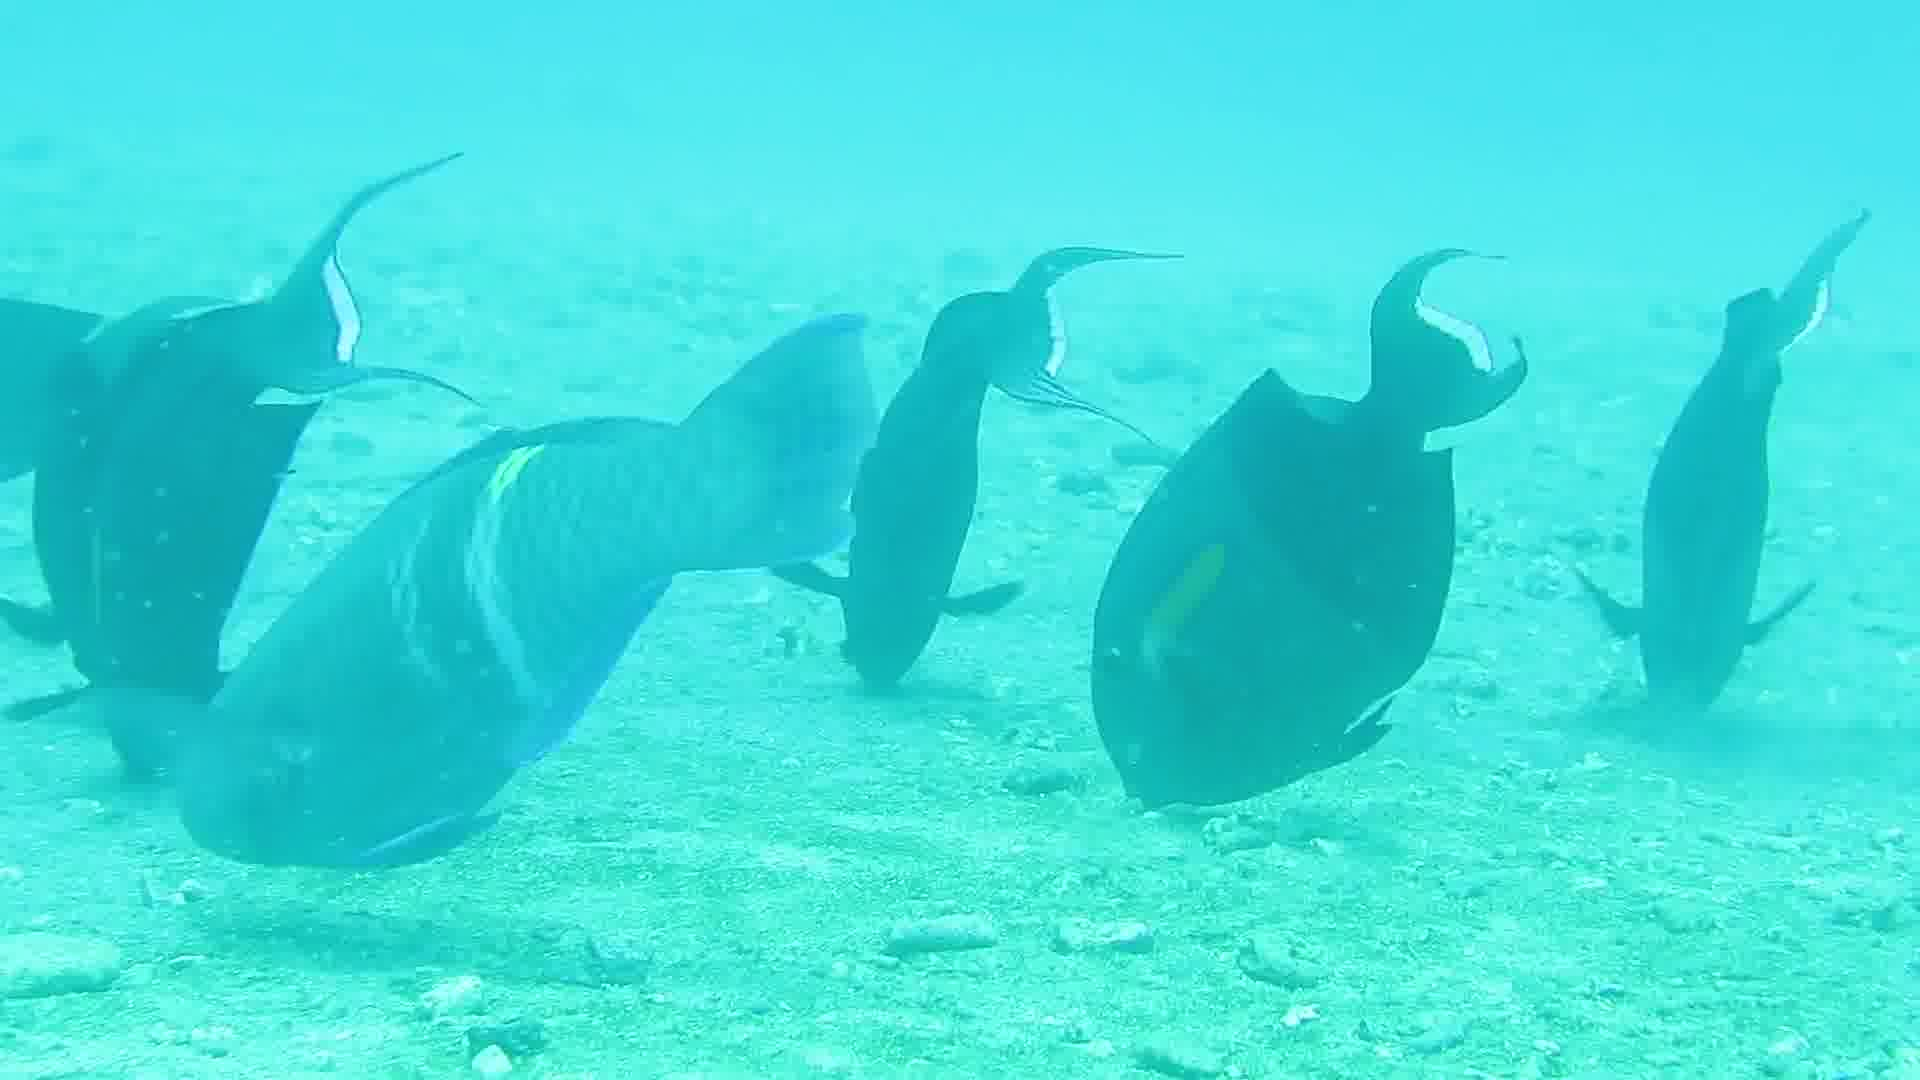Acanthurus olivaceus: (196, 324, 858, 845), (1075, 227, 1527, 851), (1, 211, 364, 808), (833, 150, 1106, 770), (1585, 183, 1857, 803)
